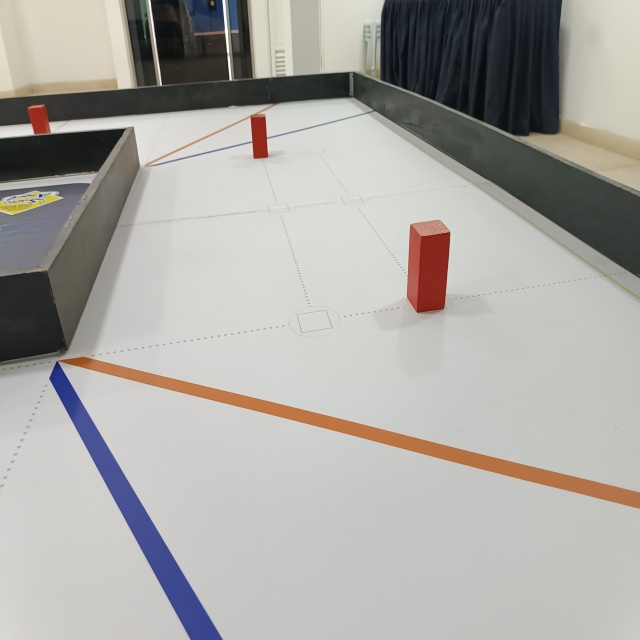blue line: (46, 362, 223, 640), (139, 108, 374, 168)
orange line: (61, 355, 640, 512), (142, 102, 278, 167)
red rectangular prism: (409, 219, 452, 313), (250, 117, 272, 158), (26, 104, 53, 137)
